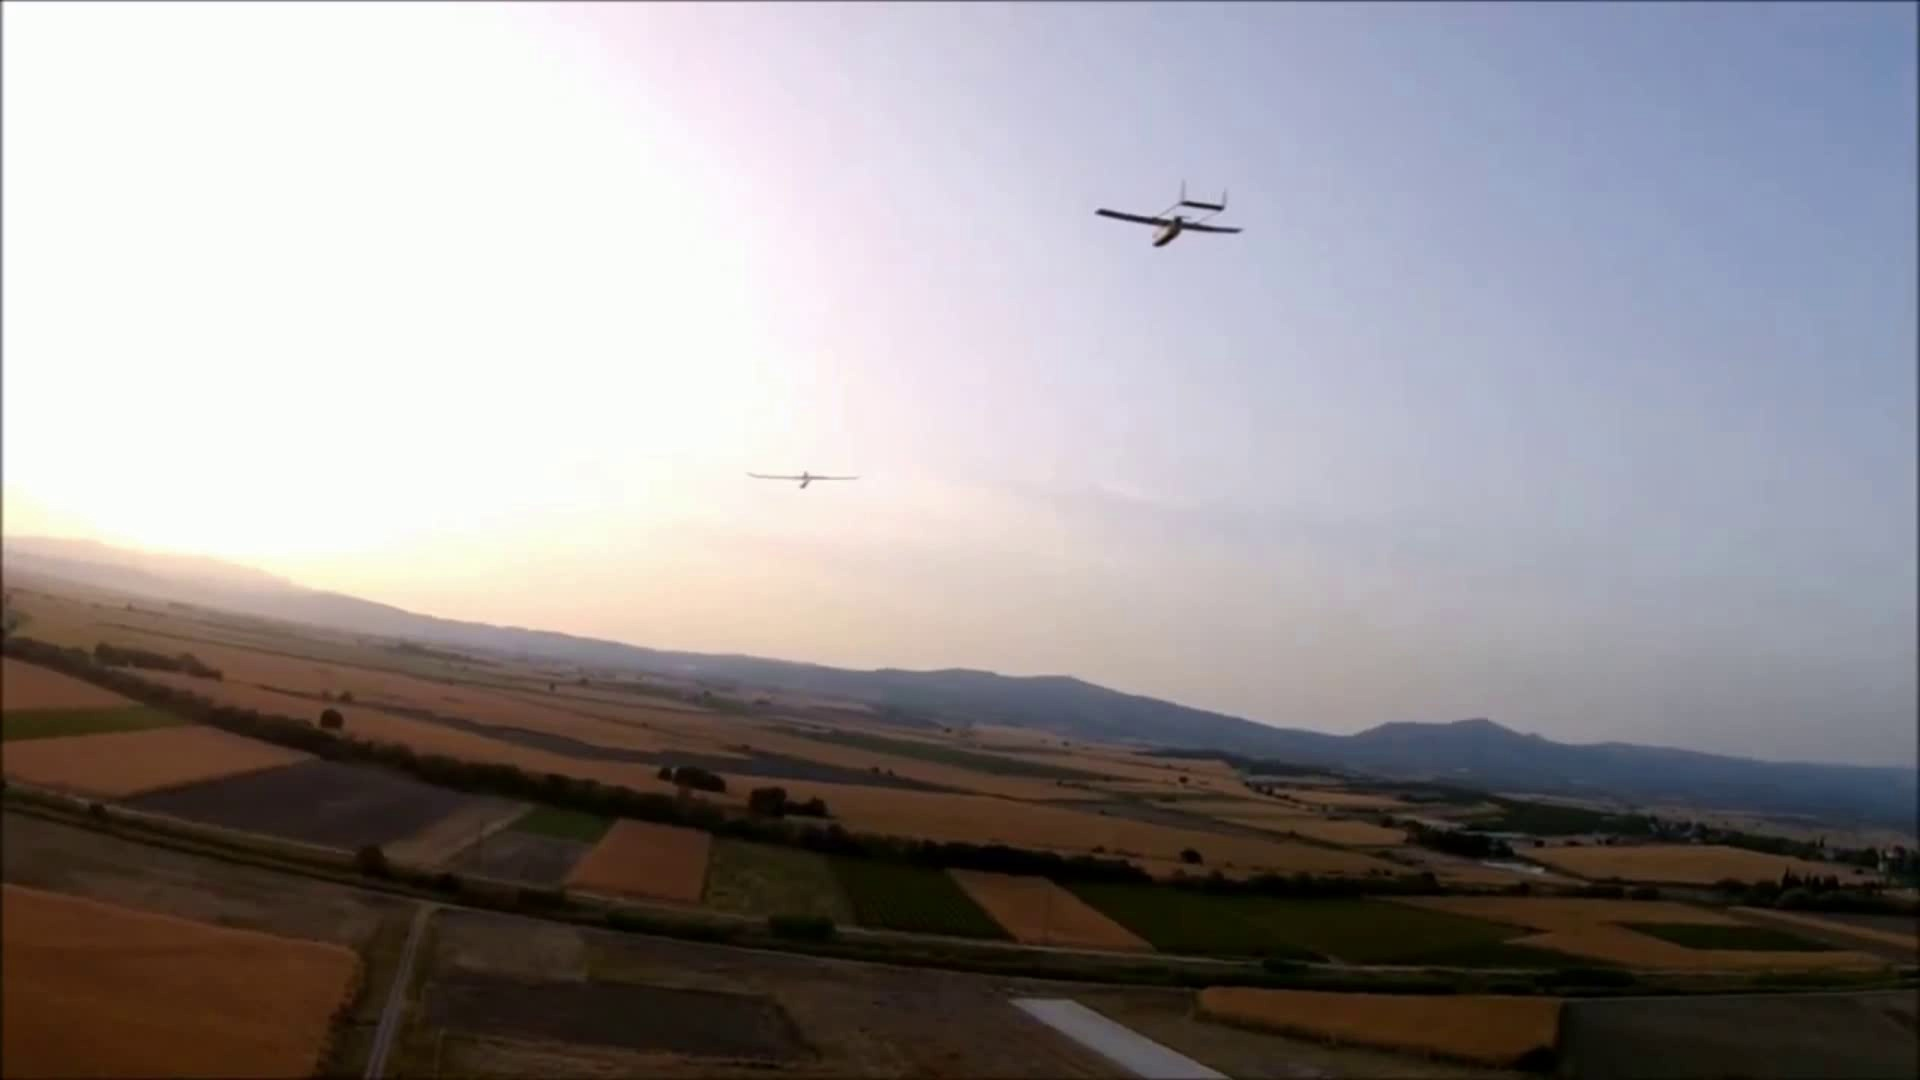airplane: (1091, 181, 1245, 245), (745, 467, 861, 488)
